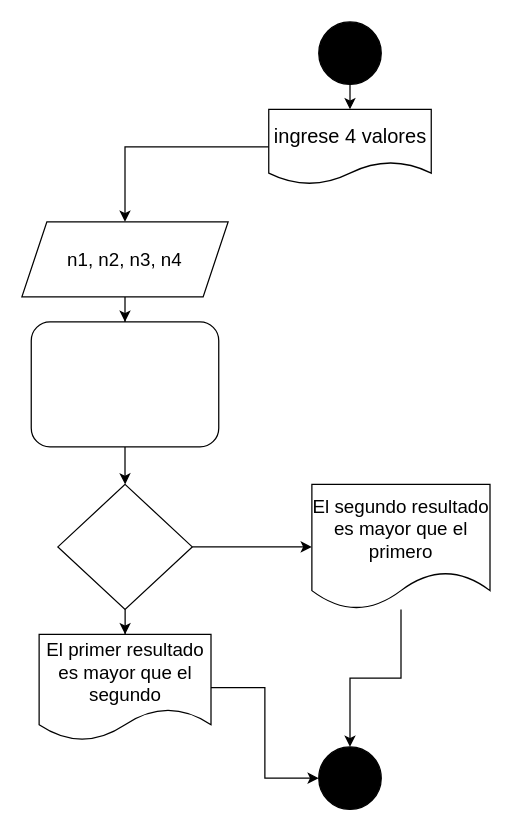
The diagram is 513 pixels wide and 831 high, and some of its shapes have lost their labels. Each missing label, with the centre of its shape:
"r1>r2" goes at (x=124, y=546).
"respuesta 1 r1 = (n1+n2) repuesta 3 r2= (n3+n4)" goes at (x=124, y=384).
